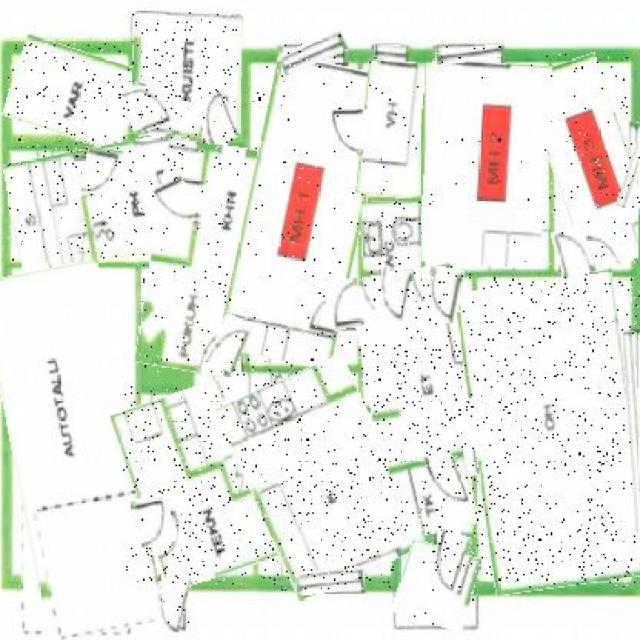door: (430, 531, 468, 591), (124, 83, 170, 131), (132, 496, 176, 546), (424, 266, 462, 323), (154, 178, 197, 228), (211, 315, 249, 371), (197, 89, 235, 143), (376, 268, 412, 324), (83, 148, 123, 197), (554, 226, 592, 277), (326, 278, 363, 329), (158, 574, 190, 632), (431, 457, 466, 508), (329, 110, 363, 156)
window: (624, 330, 640, 532), (280, 36, 348, 70), (297, 568, 365, 594), (621, 124, 640, 207), (436, 46, 502, 65), (374, 46, 406, 59)
zone: (463, 277, 640, 589), (0, 263, 146, 637), (232, 57, 376, 366), (234, 363, 409, 591), (123, 386, 266, 585), (357, 268, 480, 486), (143, 140, 257, 374), (423, 60, 549, 268), (9, 140, 194, 269), (537, 54, 640, 269), (130, 12, 242, 138), (8, 43, 138, 143), (358, 61, 422, 197), (392, 452, 476, 536), (395, 543, 477, 628), (363, 202, 422, 269)
